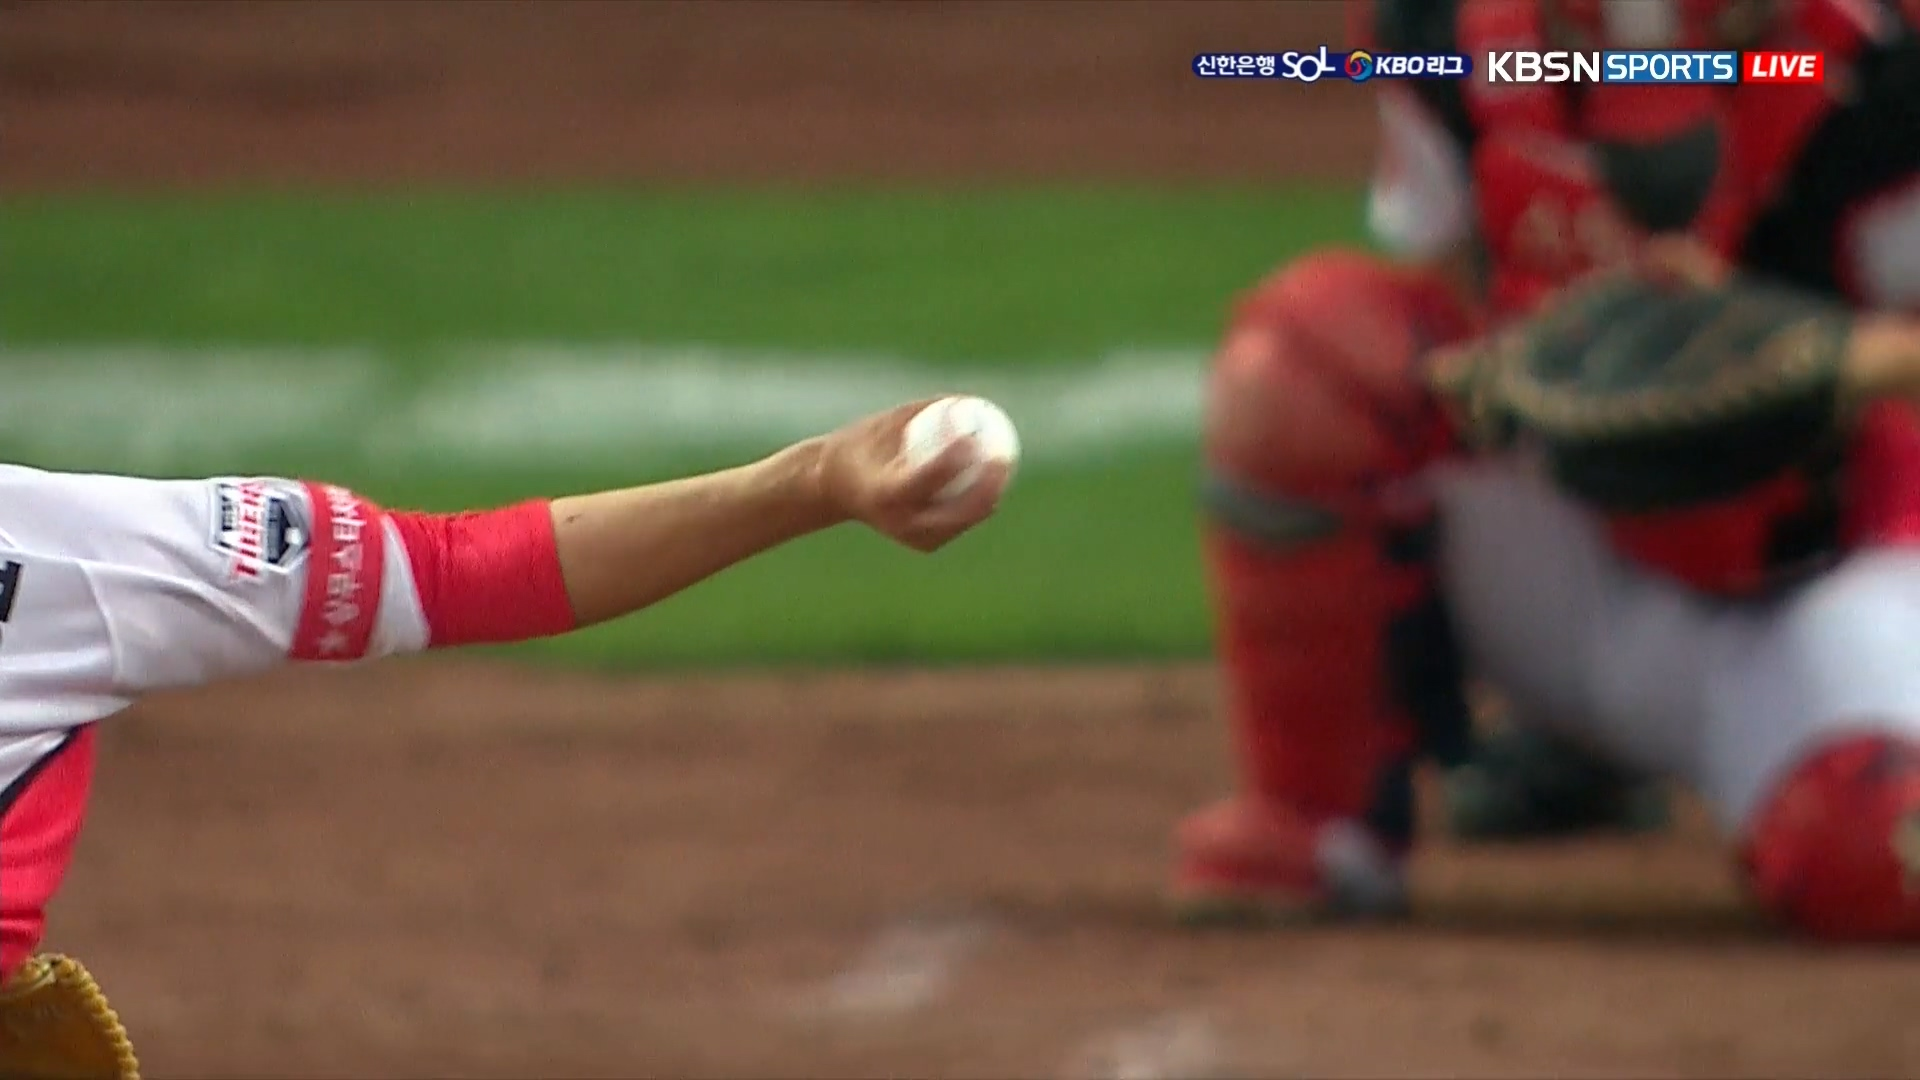zoomin_hand: (425, 380, 1033, 654)
